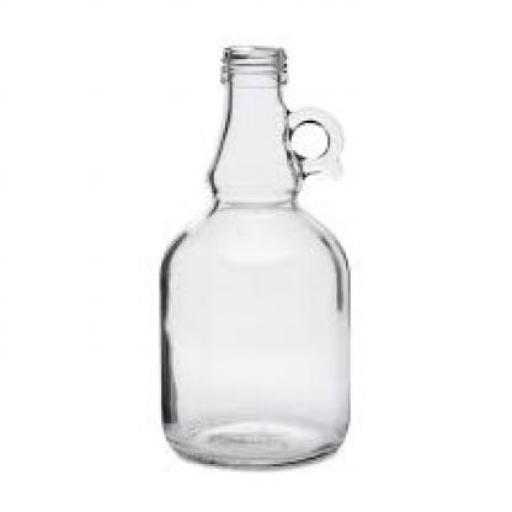glass: (162, 41, 348, 464)
